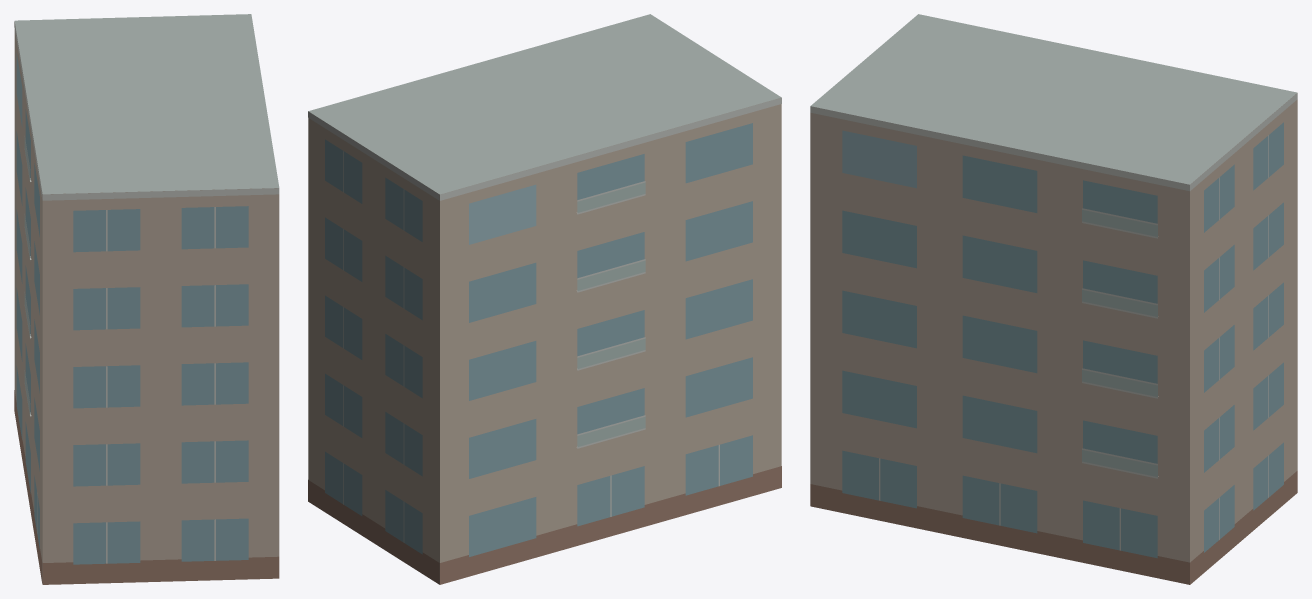
The model's file is survey-upis-32886609.glb.
3 renders of one model, left to right at view 1: azimuth 30°, elevation 25°; view 2: azimuth 150°, elevation 25°; view 3: azimuth 270°, elevation 25°, orthographic. The views are drawn at different scales.
Parts seen in each view (by area): view 1: survey-upis-32886609.tmp; view 2: survey-upis-32886609.tmp; view 3: survey-upis-32886609.tmp.
Boxes of the visible parts, x1,y1,x2,y2 form: survey-upis-32886609.tmp: (14,14,279,584); survey-upis-32886609.tmp: (308,14,781,584); survey-upis-32886609.tmp: (810,14,1297,584).
Bounding box in the file's own units: 13.64 × 14.9 × 16.45.
